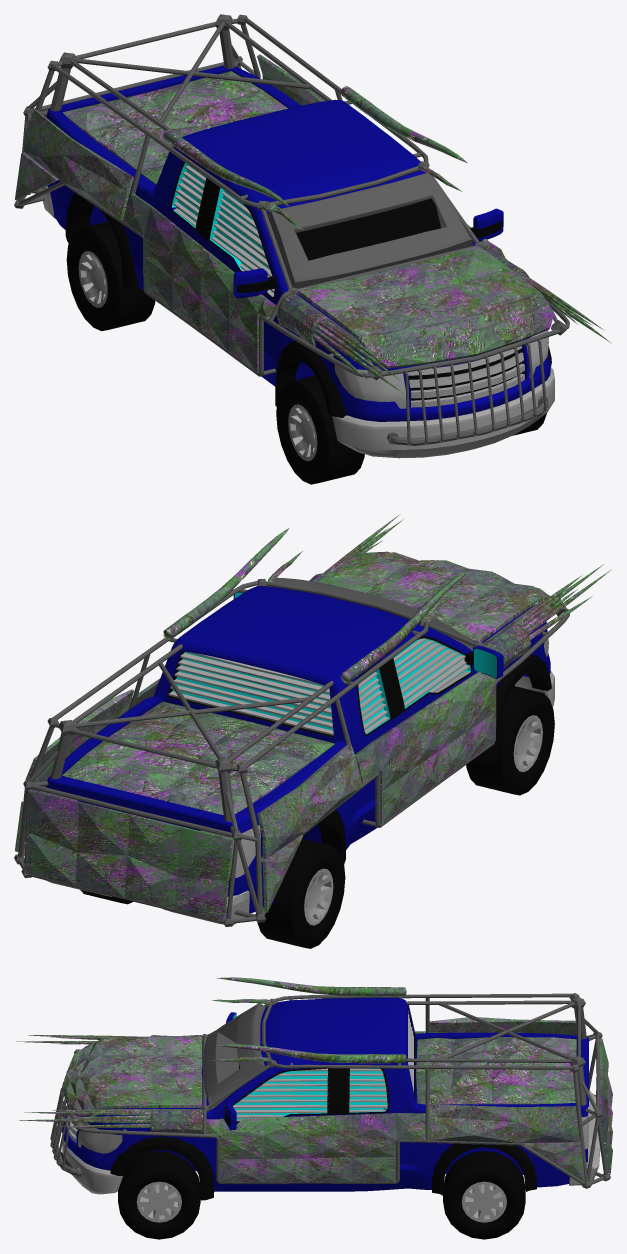
The model's file is Truck.fbx.
3 renders of one model, top to bottom at view 1: azimuth 30°, elevation 25°; view 2: azimuth 150°, elevation 25°; view 3: azimuth 270°, elevation 25°, orthographic. The views are drawn at different scales.
Visible parts, largest first — view 1: Truck, Armor_Panel_07_Geo, Armor_Panel_10_Geo, Armor_Panel_08_Geo, Armor_Panel_04_Geo, Wheel1_Geo, Wheel2_Geo, Front_Spikes, Spike_01_Geo, Armor_Panel_09_Geo; view 2: Truck, Armor_Panel_05_Geo, Armor_Panel_08_Geo, Armor_Panel_10_Geo, Armor_Panel_07_Geo, Armor_Panel_04_Geo, Wheel1_Geo, Wheel2_Geo, Front_Spikes, Spike_01_Geo, Armor_Panel_09_Geo; view 3: Truck, Armor_Panel_02_Geo, Armor_Panel_07_Geo, Armor_Panel_08_Geo, Armor_Panel_04_Geo, Wheel4_Geo, Wheel3_Geo, Front_Spikes, Spike_01_Geo, Armor_Panel_05_Geo, Armor_Panel_09_Geo, Spike_02_Geo.
Boxes of the visible parts, x1=… form: Truck: x1=14, y1=14, x2=569, y2=458; Armor_Panel_07_Geo: x1=297, y1=245, x2=554, y2=368; Armor_Panel_10_Geo: x1=124, y1=193, x2=275, y2=372; Armor_Panel_08_Geo: x1=63, y1=71, x2=287, y2=184; Armor_Panel_04_Geo: x1=23, y1=54, x2=325, y2=220; Wheel1_Geo: x1=66, y1=221, x2=155, y2=331; Wheel2_Geo: x1=276, y1=375, x2=364, y2=484; Front_Spikes: x1=277, y1=246, x2=611, y2=393; Spike_01_Geo: x1=163, y1=86, x2=467, y2=206; Armor_Panel_09_Geo: x1=15, y1=152, x2=58, y2=199; Truck: x1=14, y1=577, x2=569, y2=926; Armor_Panel_05_Geo: x1=26, y1=789, x2=233, y2=921; Armor_Panel_08_Geo: x1=62, y1=701, x2=334, y2=814; Armor_Panel_10_Geo: x1=355, y1=671, x2=503, y2=823; Armor_Panel_07_Geo: x1=318, y1=551, x2=550, y2=642; Armor_Panel_04_Geo: x1=23, y1=689, x2=362, y2=858; Wheel1_Geo: x1=257, y1=839, x2=345, y2=948; Wheel2_Geo: x1=466, y1=686, x2=554, y2=795; Front_Spikes: x1=309, y1=514, x2=611, y2=668; Spike_01_Geo: x1=163, y1=528, x2=467, y2=682; Armor_Panel_09_Geo: x1=15, y1=791, x2=303, y2=912; Truck: x1=50, y1=993, x2=610, y2=1200; Armor_Panel_02_Geo: x1=206, y1=1113, x2=425, y2=1182; Armor_Panel_07_Geo: x1=62, y1=1036, x2=202, y2=1117; Armor_Panel_08_Geo: x1=416, y1=1037, x2=576, y2=1104; Armor_Panel_04_Geo: x1=429, y1=1017, x2=579, y2=1143; Wheel4_Geo: x1=443, y1=1151, x2=525, y2=1239; Wheel3_Geo: x1=118, y1=1151, x2=200, y2=1239; Front_Spikes: x1=16, y1=1035, x2=202, y2=1133; Spike_01_Geo: x1=216, y1=977, x2=406, y2=1063; Armor_Panel_05_Geo: x1=599, y1=1038, x2=612, y2=1174; Armor_Panel_09_Geo: x1=524, y1=1142, x2=584, y2=1182; Spike_02_Geo: x1=211, y1=999, x2=270, y2=1061.
Size of what is drawn, in the model's own units: 2.22 by 1.92 by 5.53.
